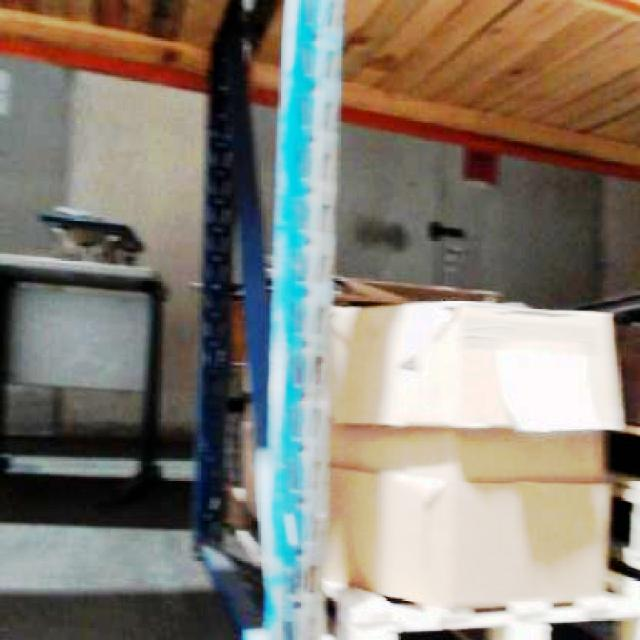ground: (0, 452, 638, 638)
pallet: (215, 272, 638, 638), (317, 569, 638, 638)
